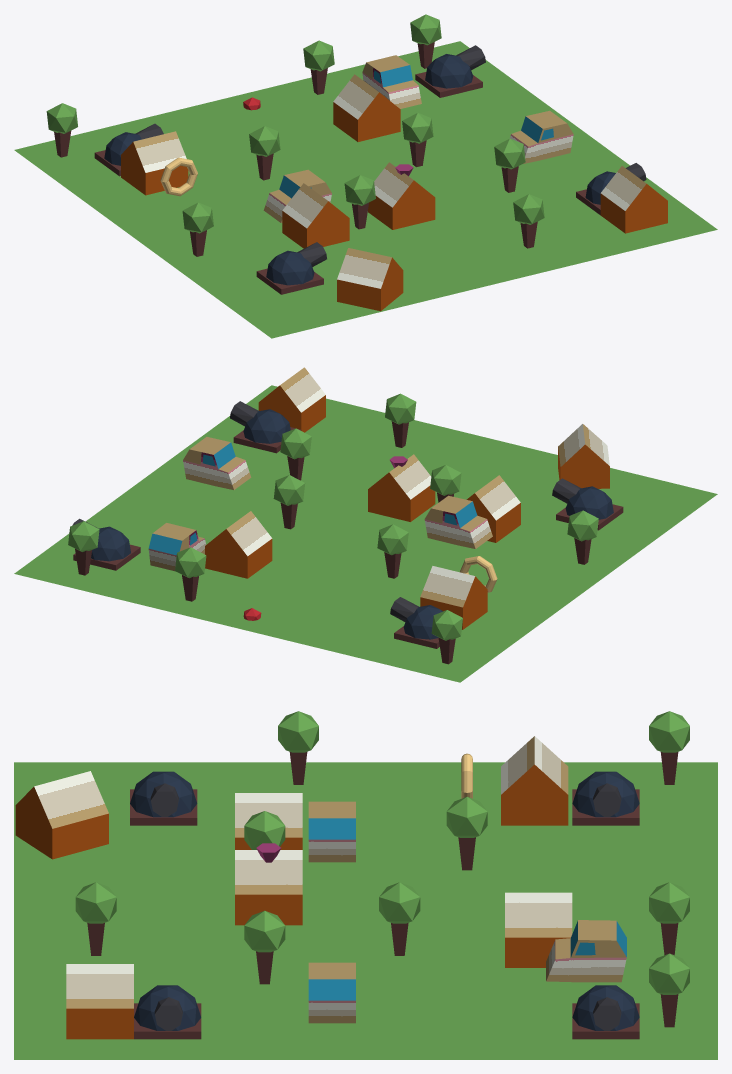
Rendered from level2.gltf.
The picture shows the model from 3 angles, top to bottom: view 1: azimuth 30°, elevation 25°; view 2: azimuth 150°, elevation 25°; view 3: azimuth 270°, elevation 25°; orthographic projection. The views are drawn at different scales.
Visible parts, largest first — view 1: Plane, Cube.006, Cube.004, Cube.005, Cube.002, Cube, Cube.001, canon.002, canon.001, car, car.001, car.002 (+12 smaller); view 2: Plane, Cube.005, Cube, Cube.001, Cube.006, Cube.004, car.002, car, Cube.002, canon.005, canon.002, car.001 (+12 smaller); view 3: Plane, Cube.006, Cube.004, Cube.001, Cube, Cube.005, car.001, canon.001, canon.005, canon, canon.002, car (+11 smaller).
Boxes of the visible parts, box(x1,y1,x2,y2) form: Plane: box(14, 41, 717, 338); Cube.006: box(337, 248, 403, 311); Cube.004: box(600, 166, 667, 233); Cube.005: box(333, 74, 400, 141); Cube.002: box(282, 183, 349, 248); Cube: box(368, 162, 435, 229); Cube.001: box(121, 131, 188, 195); canon.002: box(256, 242, 326, 294); canon.001: box(415, 45, 485, 97); car: box(509, 110, 573, 163); car.001: box(362, 55, 421, 108); car.002: box(263, 169, 331, 222); Plane: box(14, 385, 717, 682); Cube.005: box(205, 511, 272, 578); Cube: box(368, 454, 435, 521); Cube.001: box(420, 566, 487, 629); Cube.006: box(558, 424, 609, 488); Cube.004: box(258, 367, 325, 432); car.002: box(424, 495, 492, 548); car: box(183, 437, 251, 489); Cube.002: box(466, 475, 520, 542); canon.005: box(230, 401, 301, 453); canon.002: box(552, 478, 623, 530); car.001: box(148, 523, 206, 571); Plane: box(14, 762, 717, 1059); Cube.006: box(15, 771, 108, 859); Cube.004: box(66, 964, 133, 1039); Cube.001: box(501, 736, 568, 825); Cube: box(235, 850, 302, 925); Cube.005: box(505, 892, 572, 967); car.001: box(546, 920, 626, 982); canon.001: box(572, 985, 639, 1039); canon.005: box(134, 985, 201, 1039); canon: box(572, 771, 639, 825); canon.002: box(130, 771, 197, 825); car: box(308, 962, 355, 1023).
Size of the model in its own units: 20.87 by 3.09 by 20.87.
Materials: 1 (1 with a texture image).
